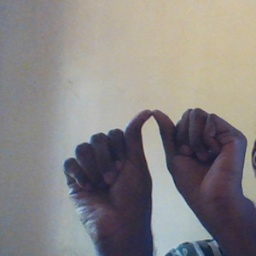A: (58, 106, 250, 231)
